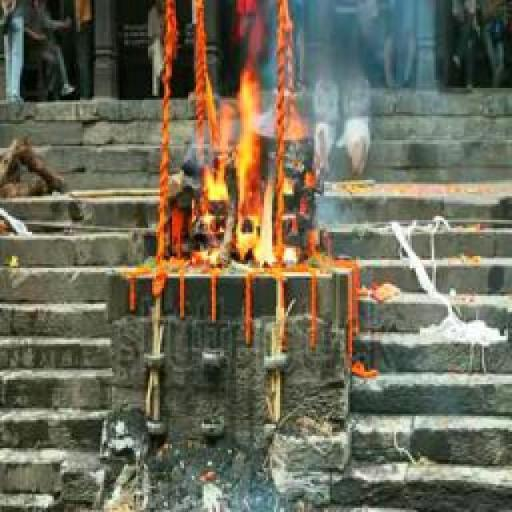smoke: (202, 74, 292, 263)
